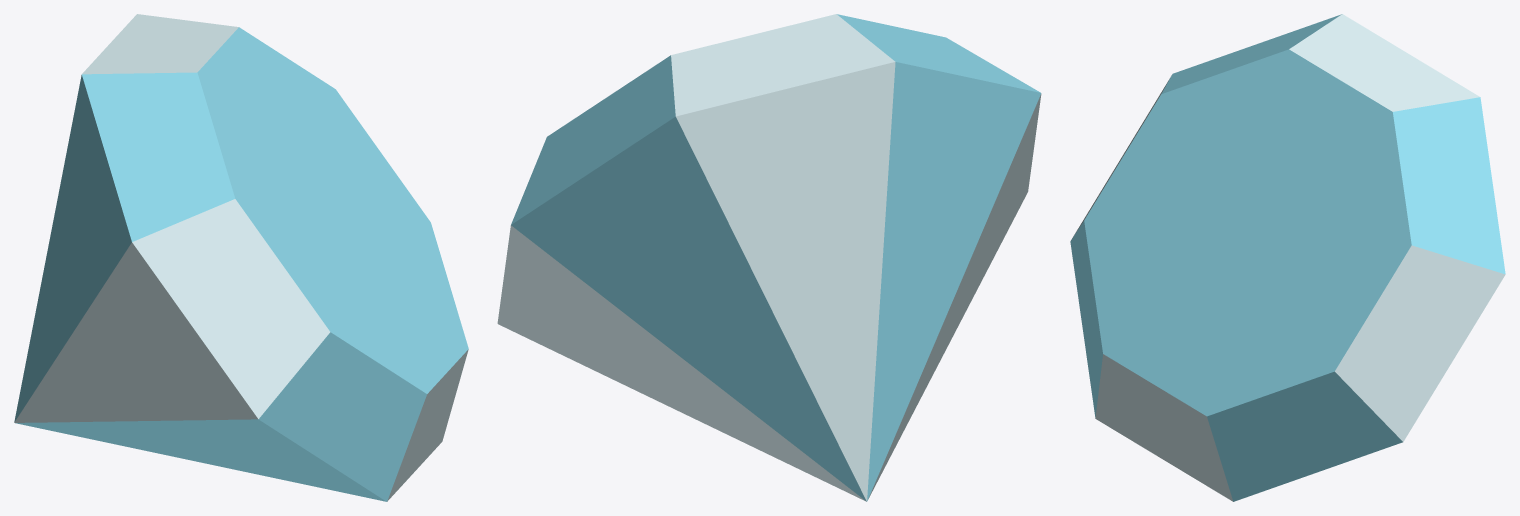
Rendered from Joya_color.fbx.
3 views of the same model, side by side, from view 1: azimuth 30°, elevation 25°; view 2: azimuth 150°, elevation 25°; view 3: azimuth 270°, elevation 25° (orthographic). The views are drawn at different scales.
Visible parts, largest first — view 1: Joya_color; view 2: Joya_color; view 3: Joya_color.
Boxes of the visible parts, x1,y1,x2,y2 form: Joya_color: [14, 14, 468, 501]; Joya_color: [497, 14, 1041, 501]; Joya_color: [1070, 14, 1505, 501].
Bounding box in the file's own units: 14.6 × 15.73 × 14.3.
